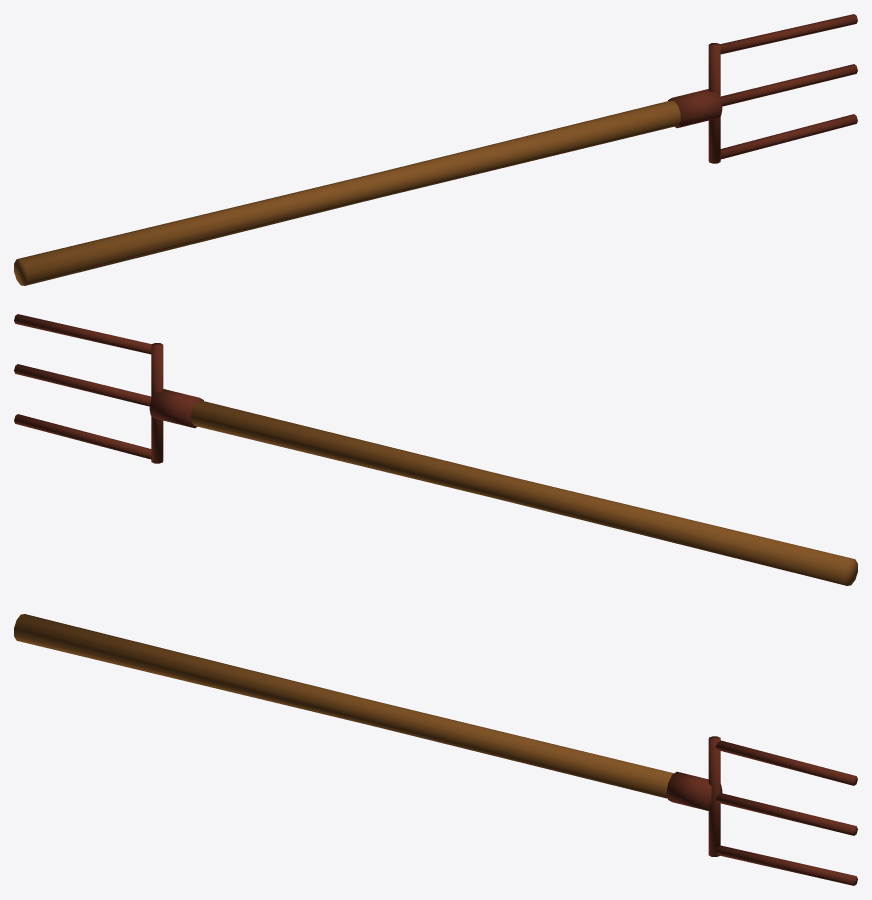
File: held_pitchfork.glb
3 views of the same model, one above another, from view 1: azimuth 30°, elevation 25°; view 2: azimuth 150°, elevation 25°; view 3: azimuth 330°, elevation 25° (orthographic).
Visible parts, largest first — view 1: haft, tine_-10, tine_10, tine_0, socket, bar; view 2: haft, tine_-10, tine_10, tine_0, socket, bar; view 3: haft, tine_10, tine_0, tine_-10, socket, bar.
Part boxes in pixels (bbox=[...]): haft: bbox=[14, 100, 680, 285]; tine_-10: bbox=[720, 114, 857, 159]; tine_10: bbox=[720, 14, 857, 54]; tine_0: bbox=[720, 64, 857, 106]; socket: bbox=[668, 89, 722, 128]; bar: bbox=[708, 43, 720, 163]; haft: bbox=[191, 400, 857, 585]; tine_-10: bbox=[14, 414, 151, 459]; tine_10: bbox=[14, 314, 151, 354]; tine_0: bbox=[14, 364, 151, 406]; socket: bbox=[149, 389, 203, 428]; bar: bbox=[151, 343, 163, 463]; haft: bbox=[14, 614, 673, 798]; tine_10: bbox=[715, 740, 857, 785]; tine_0: bbox=[715, 793, 857, 835]; tine_-10: bbox=[715, 845, 857, 885]; socket: bbox=[666, 771, 722, 811]; bar: bbox=[708, 736, 720, 856].
Size of the model in its own units: 1.66 by 0.22 by 0.054.
